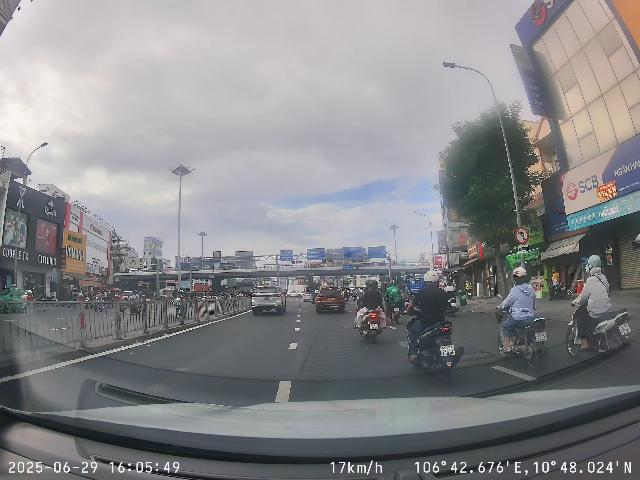123a-cam-re-trai: (514, 226, 529, 245)
